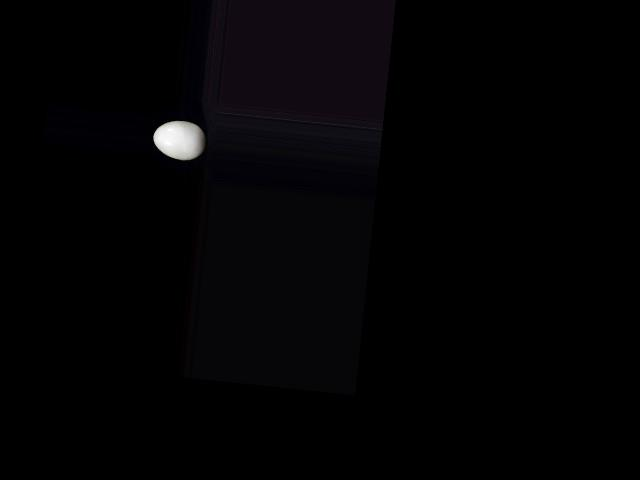egg: (151, 118, 208, 161)
